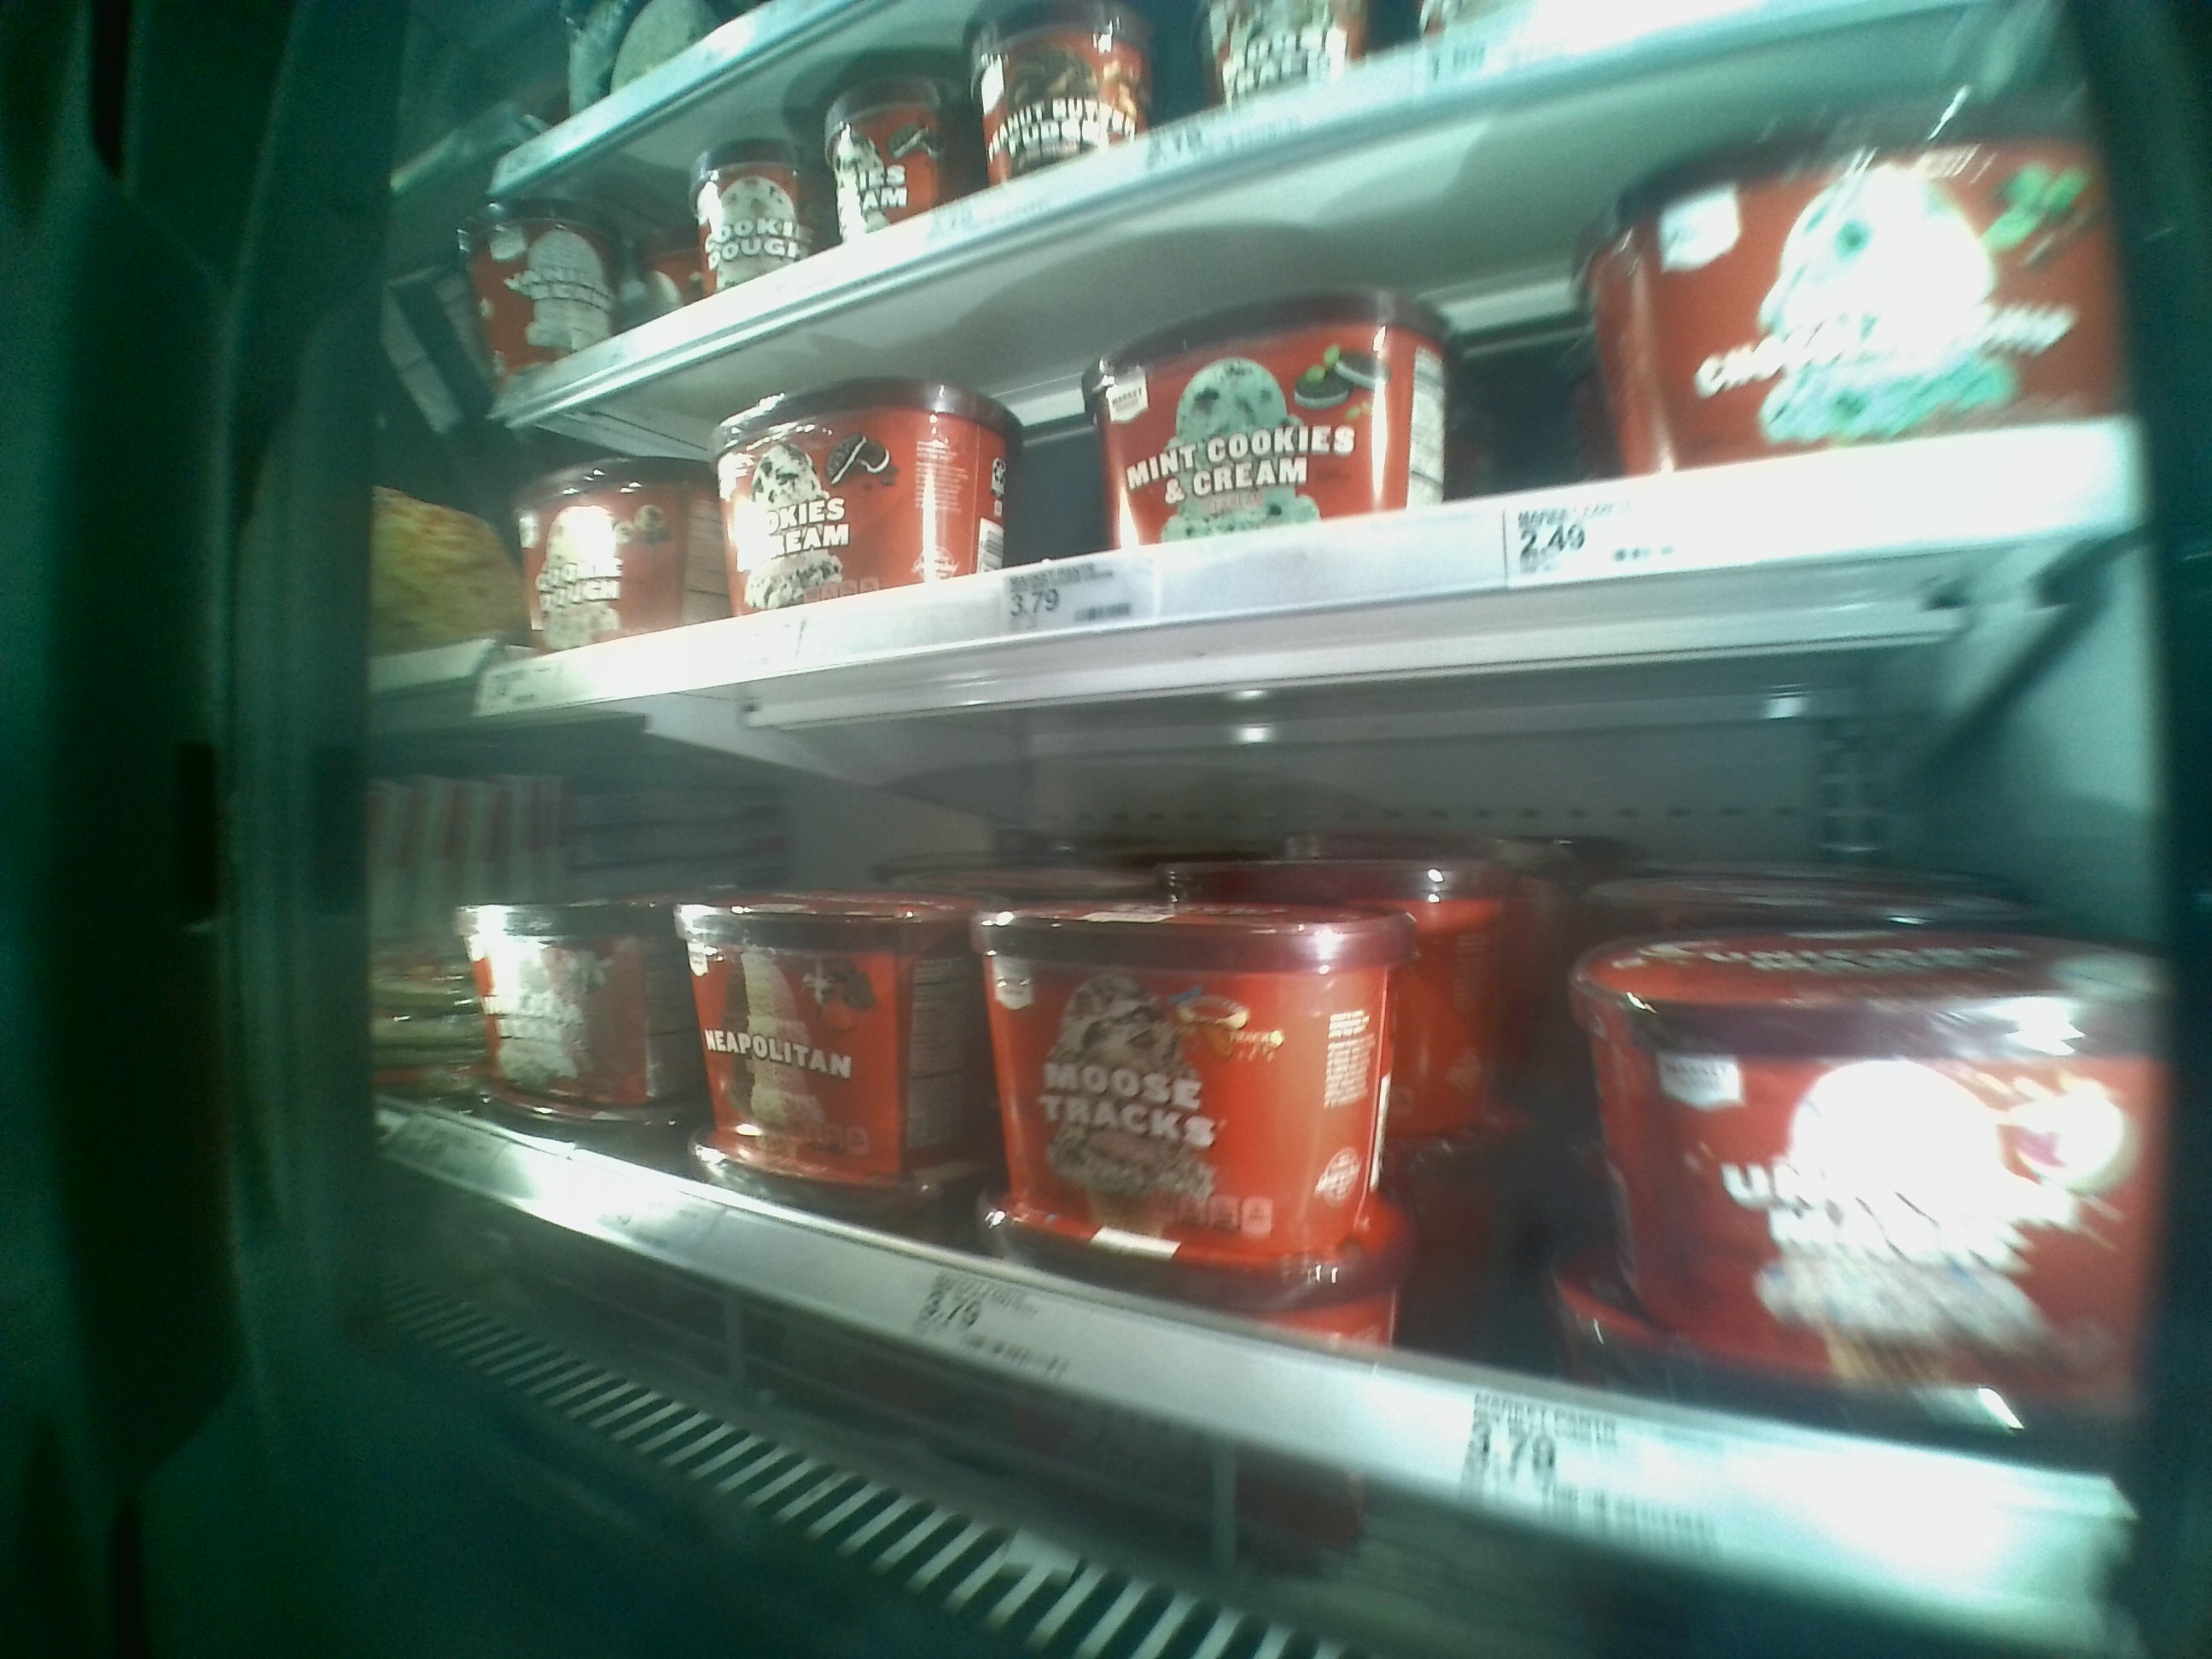shelf: (434, 521, 2146, 1622)
